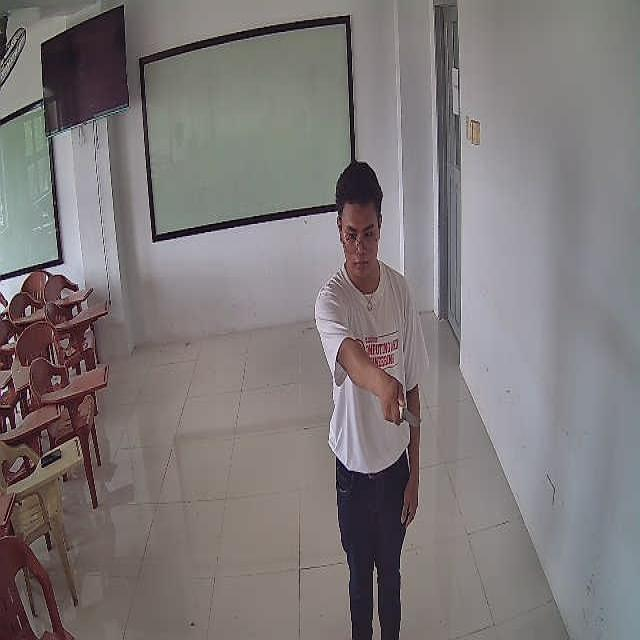knife: (399, 405, 422, 427)
